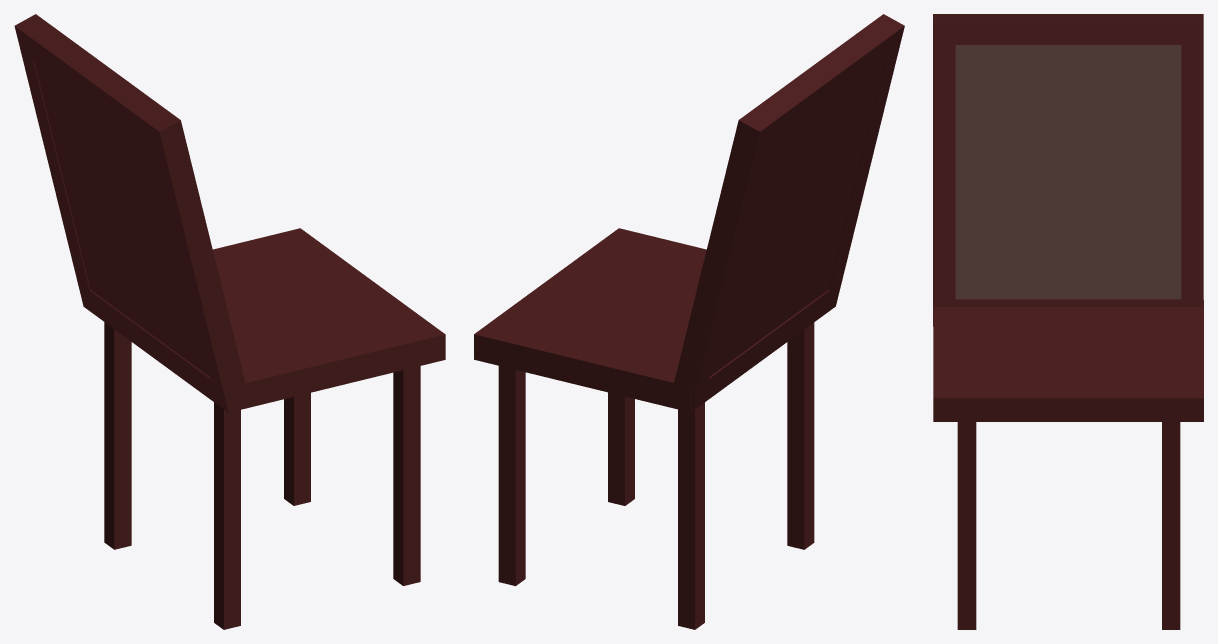
File: chair-by-poly-by-google-7akG34ZUVtc.glb
The picture shows the model from 3 angles, left to right: view 1: azimuth 30°, elevation 25°; view 2: azimuth 150°, elevation 25°; view 3: azimuth 270°, elevation 25°; orthographic projection. The views are drawn at different scales.
Visible parts, largest first — view 1: Box010, Box008, Box012, Box009, Box011, Box007; view 2: Box010, Box008, Box011, Box007, Box012, Box009; view 3: Box010, Box008, Box009, Box007.
Part boxes in pixels (x1=…): Box010: x1=14, y1=14, x2=249, y2=412; Box008: x1=213, y1=228, x2=445, y2=412; Box012: x1=104, y1=322, x2=131, y2=549; Box009: x1=393, y1=366, x2=420, y2=585; Box011: x1=214, y1=402, x2=240, y2=629; Box007: x1=284, y1=392, x2=310, y2=505; Box010: x1=674, y1=14, x2=904, y2=412; Box008: x1=474, y1=228, x2=706, y2=412; Box011: x1=787, y1=322, x2=814, y2=549; Box007: x1=498, y1=366, x2=525, y2=586; Box012: x1=678, y1=402, x2=704, y2=629; Box009: x1=608, y1=392, x2=634, y2=505; Box010: x1=933, y1=14, x2=1203, y2=326; Box008: x1=933, y1=300, x2=1203, y2=421; Box009: x1=957, y1=422, x2=976, y2=629; Box007: x1=1162, y1=422, x2=1180, y2=629.
Bounding box in the file's own units: 79560 × 141700 × 69923.
